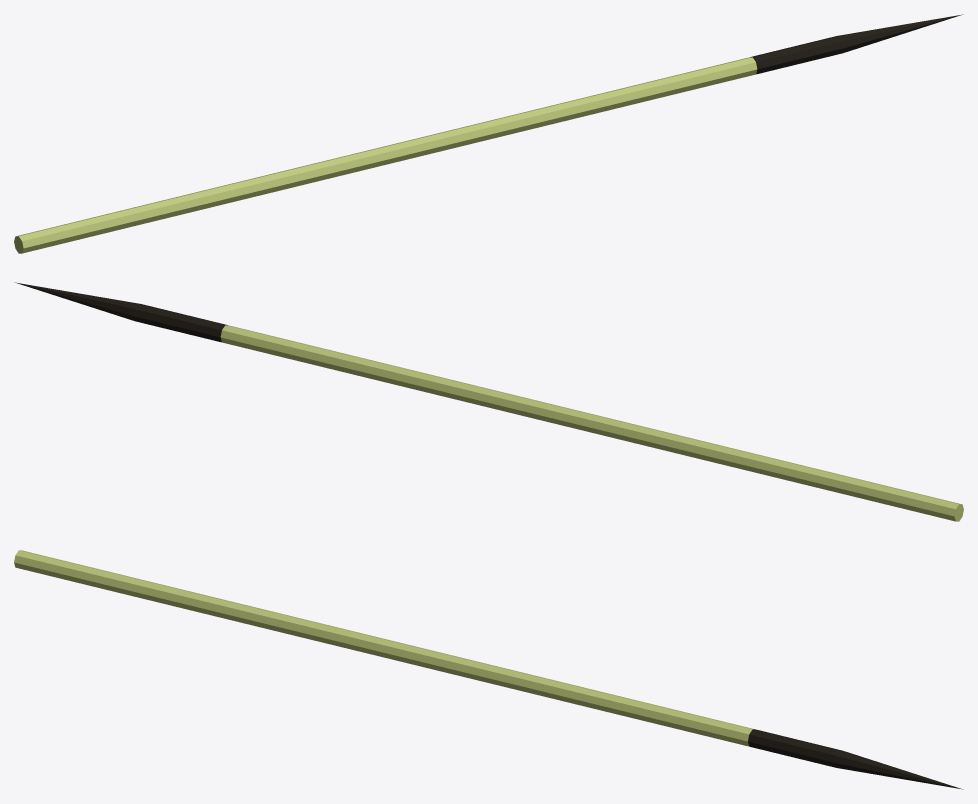
The model's file is spear.fbx.
3 renders of one model, top to bottom at view 1: azimuth 30°, elevation 25°; view 2: azimuth 150°, elevation 25°; view 3: azimuth 330°, elevation 25°, orthographic.
Parts seen in each view (by area): view 1: Cylinder; view 2: Cylinder; view 3: Cylinder.
Part boxes in pixels (x1=…): Cylinder: x1=14, y1=14, x2=963, y2=253; Cylinder: x1=14, y1=282, x2=963, y2=521; Cylinder: x1=14, y1=550, x2=963, y2=789.
Bounding box in the file's own units: 171 × 3 × 3.
